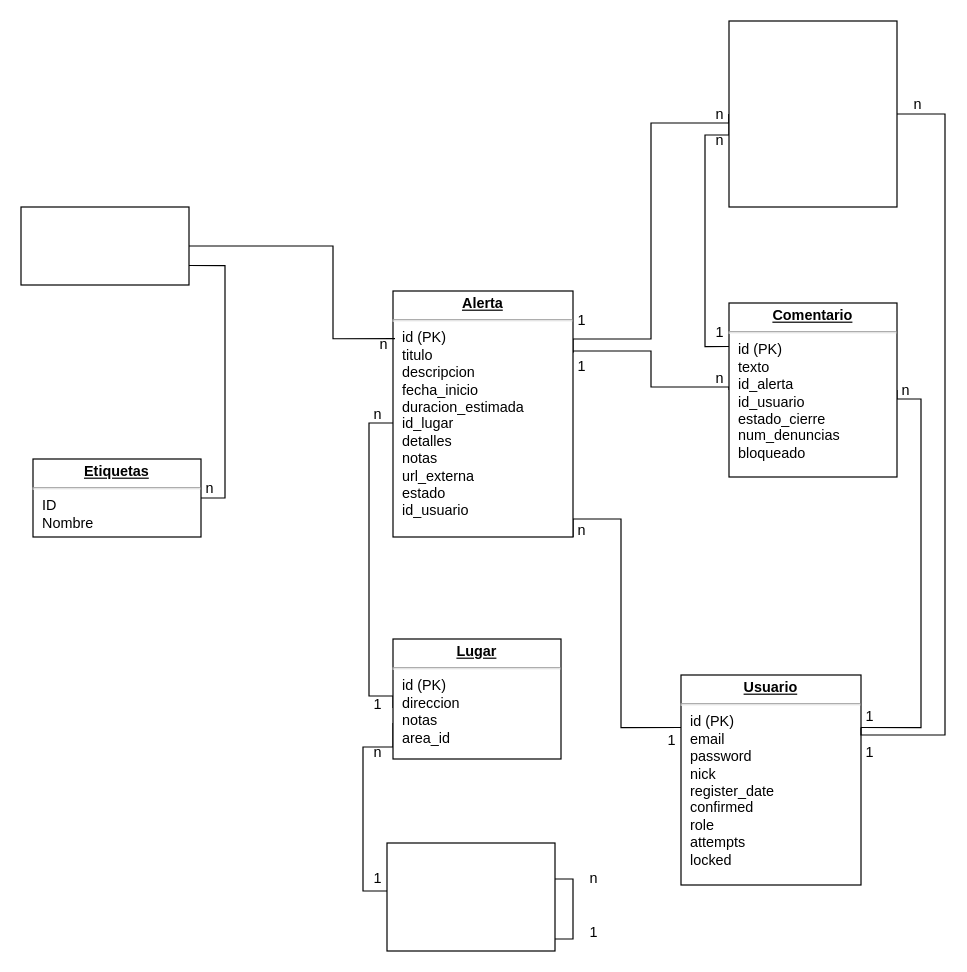
Image size: 967x972. Some labels were removed from this diagram. The shapes that lost their labels are listed below. From the top down, each one's box as (x1, y1, x2, y2) in pixels, then its label:
(728, 20, 897, 207): Incidencias id (PK) texto id_usuario id_alerta id_comentario fecha_lectura
(20, 206, 189, 285): Aletrta_Etiquetas Alerta_ID Etiqueta_ID
(386, 842, 555, 951): Area id (PK) nombre parent_id
